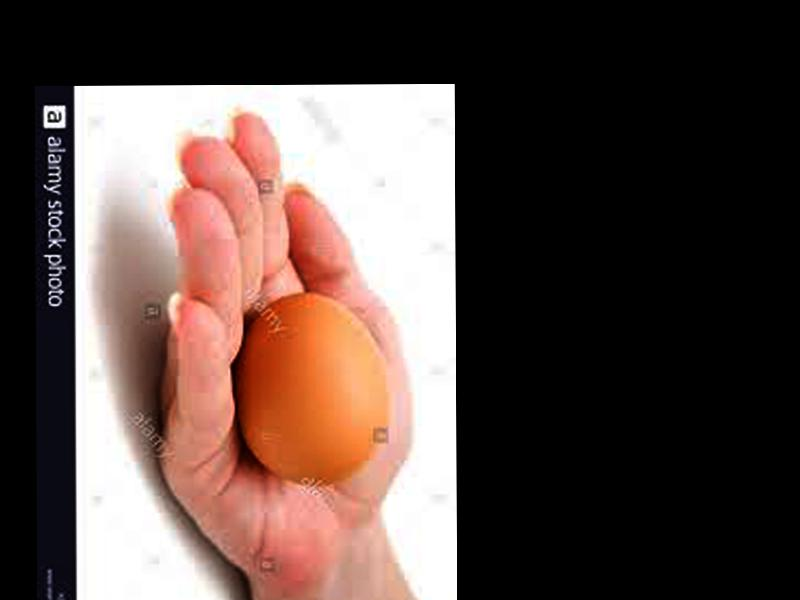Eggs: (236, 294, 392, 487)
